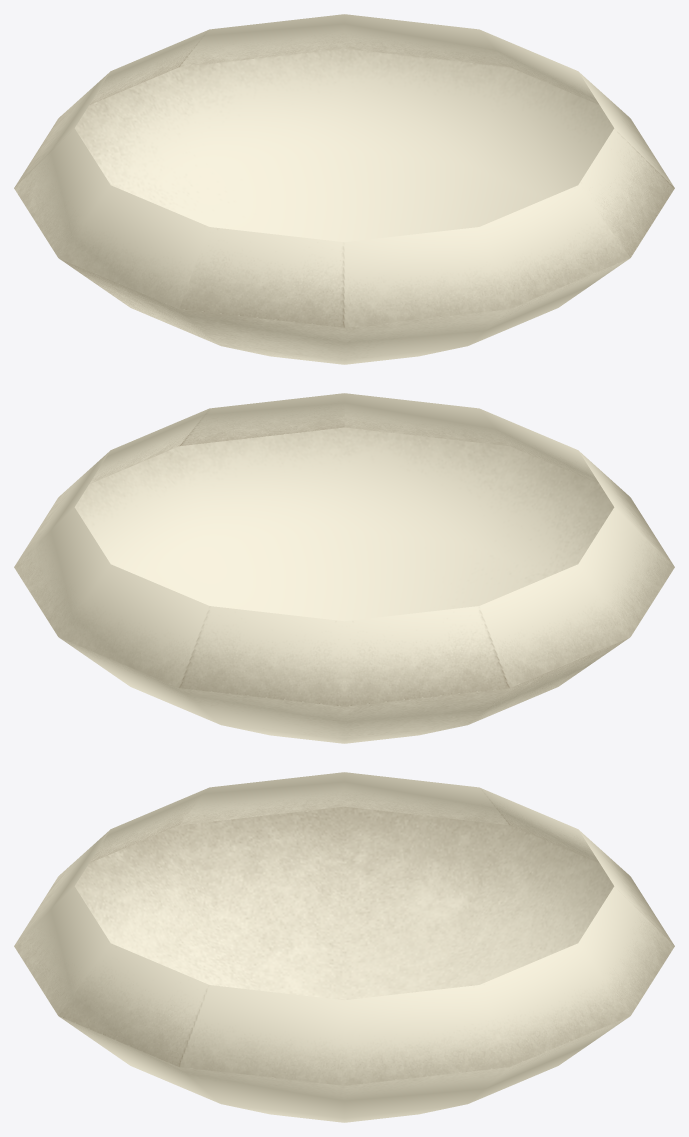
The model's file is ceiling_round_light_final.fbx.
3 views of the same model, one above another, from view 1: azimuth 30°, elevation 25°; view 2: azimuth 150°, elevation 25°; view 3: azimuth 270°, elevation 25° (orthographic).
Parts seen in each view (by area): view 1: ceiling_round_light; view 2: ceiling_round_light; view 3: ceiling_round_light.
Boxes of the visible parts, x1,y1,x2,y2 form: ceiling_round_light: (14,14,674,364); ceiling_round_light: (14,393,674,743); ceiling_round_light: (14,772,674,1122).
Bounding box in the file's own units: 22.49 × 8.44 × 22.49.
Materials: 1 (1 with a texture image).
